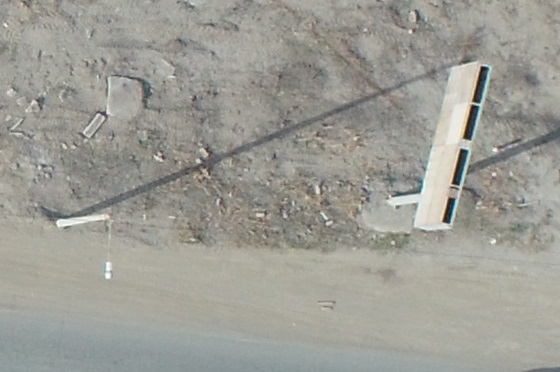opora: (56, 192, 117, 281)
